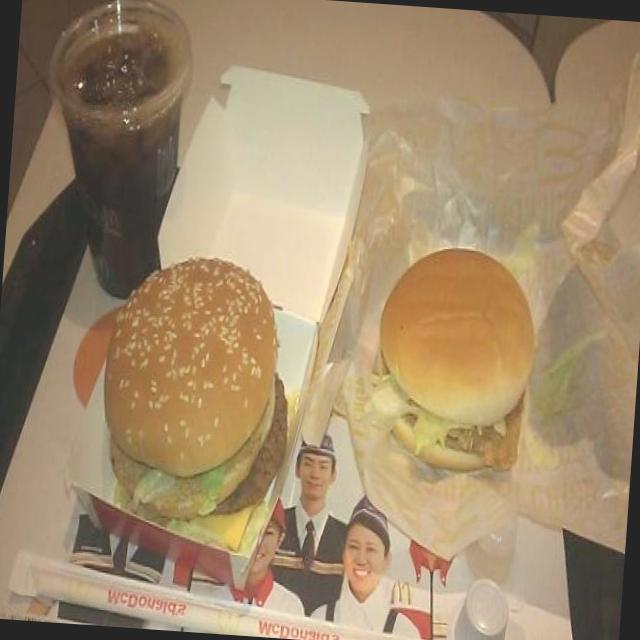Hamburger: (85, 227, 308, 552), (358, 224, 547, 484)
